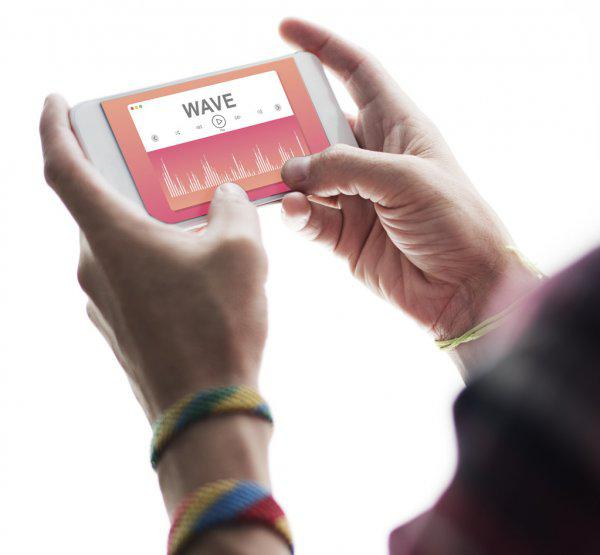mobile: (69, 51, 365, 230)
